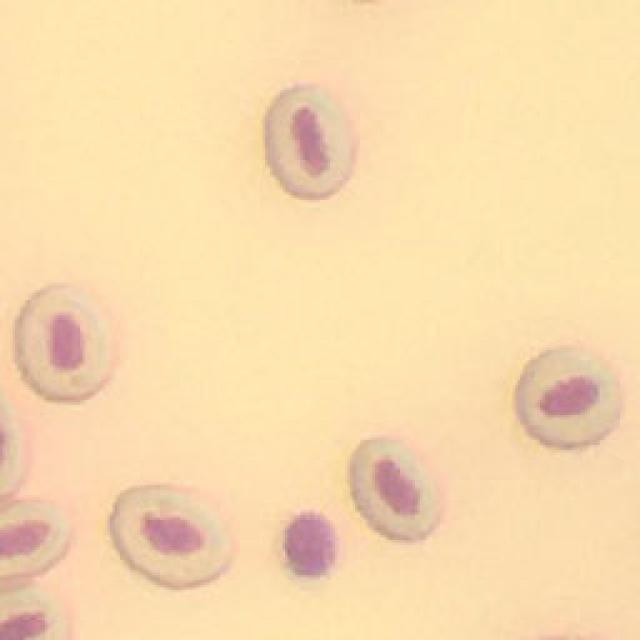RBC: (110, 486, 231, 587), (16, 285, 111, 399), (266, 84, 355, 199), (516, 348, 620, 446), (351, 439, 436, 539), (0, 501, 69, 578), (0, 586, 66, 640)
WBC: (285, 512, 334, 574)
